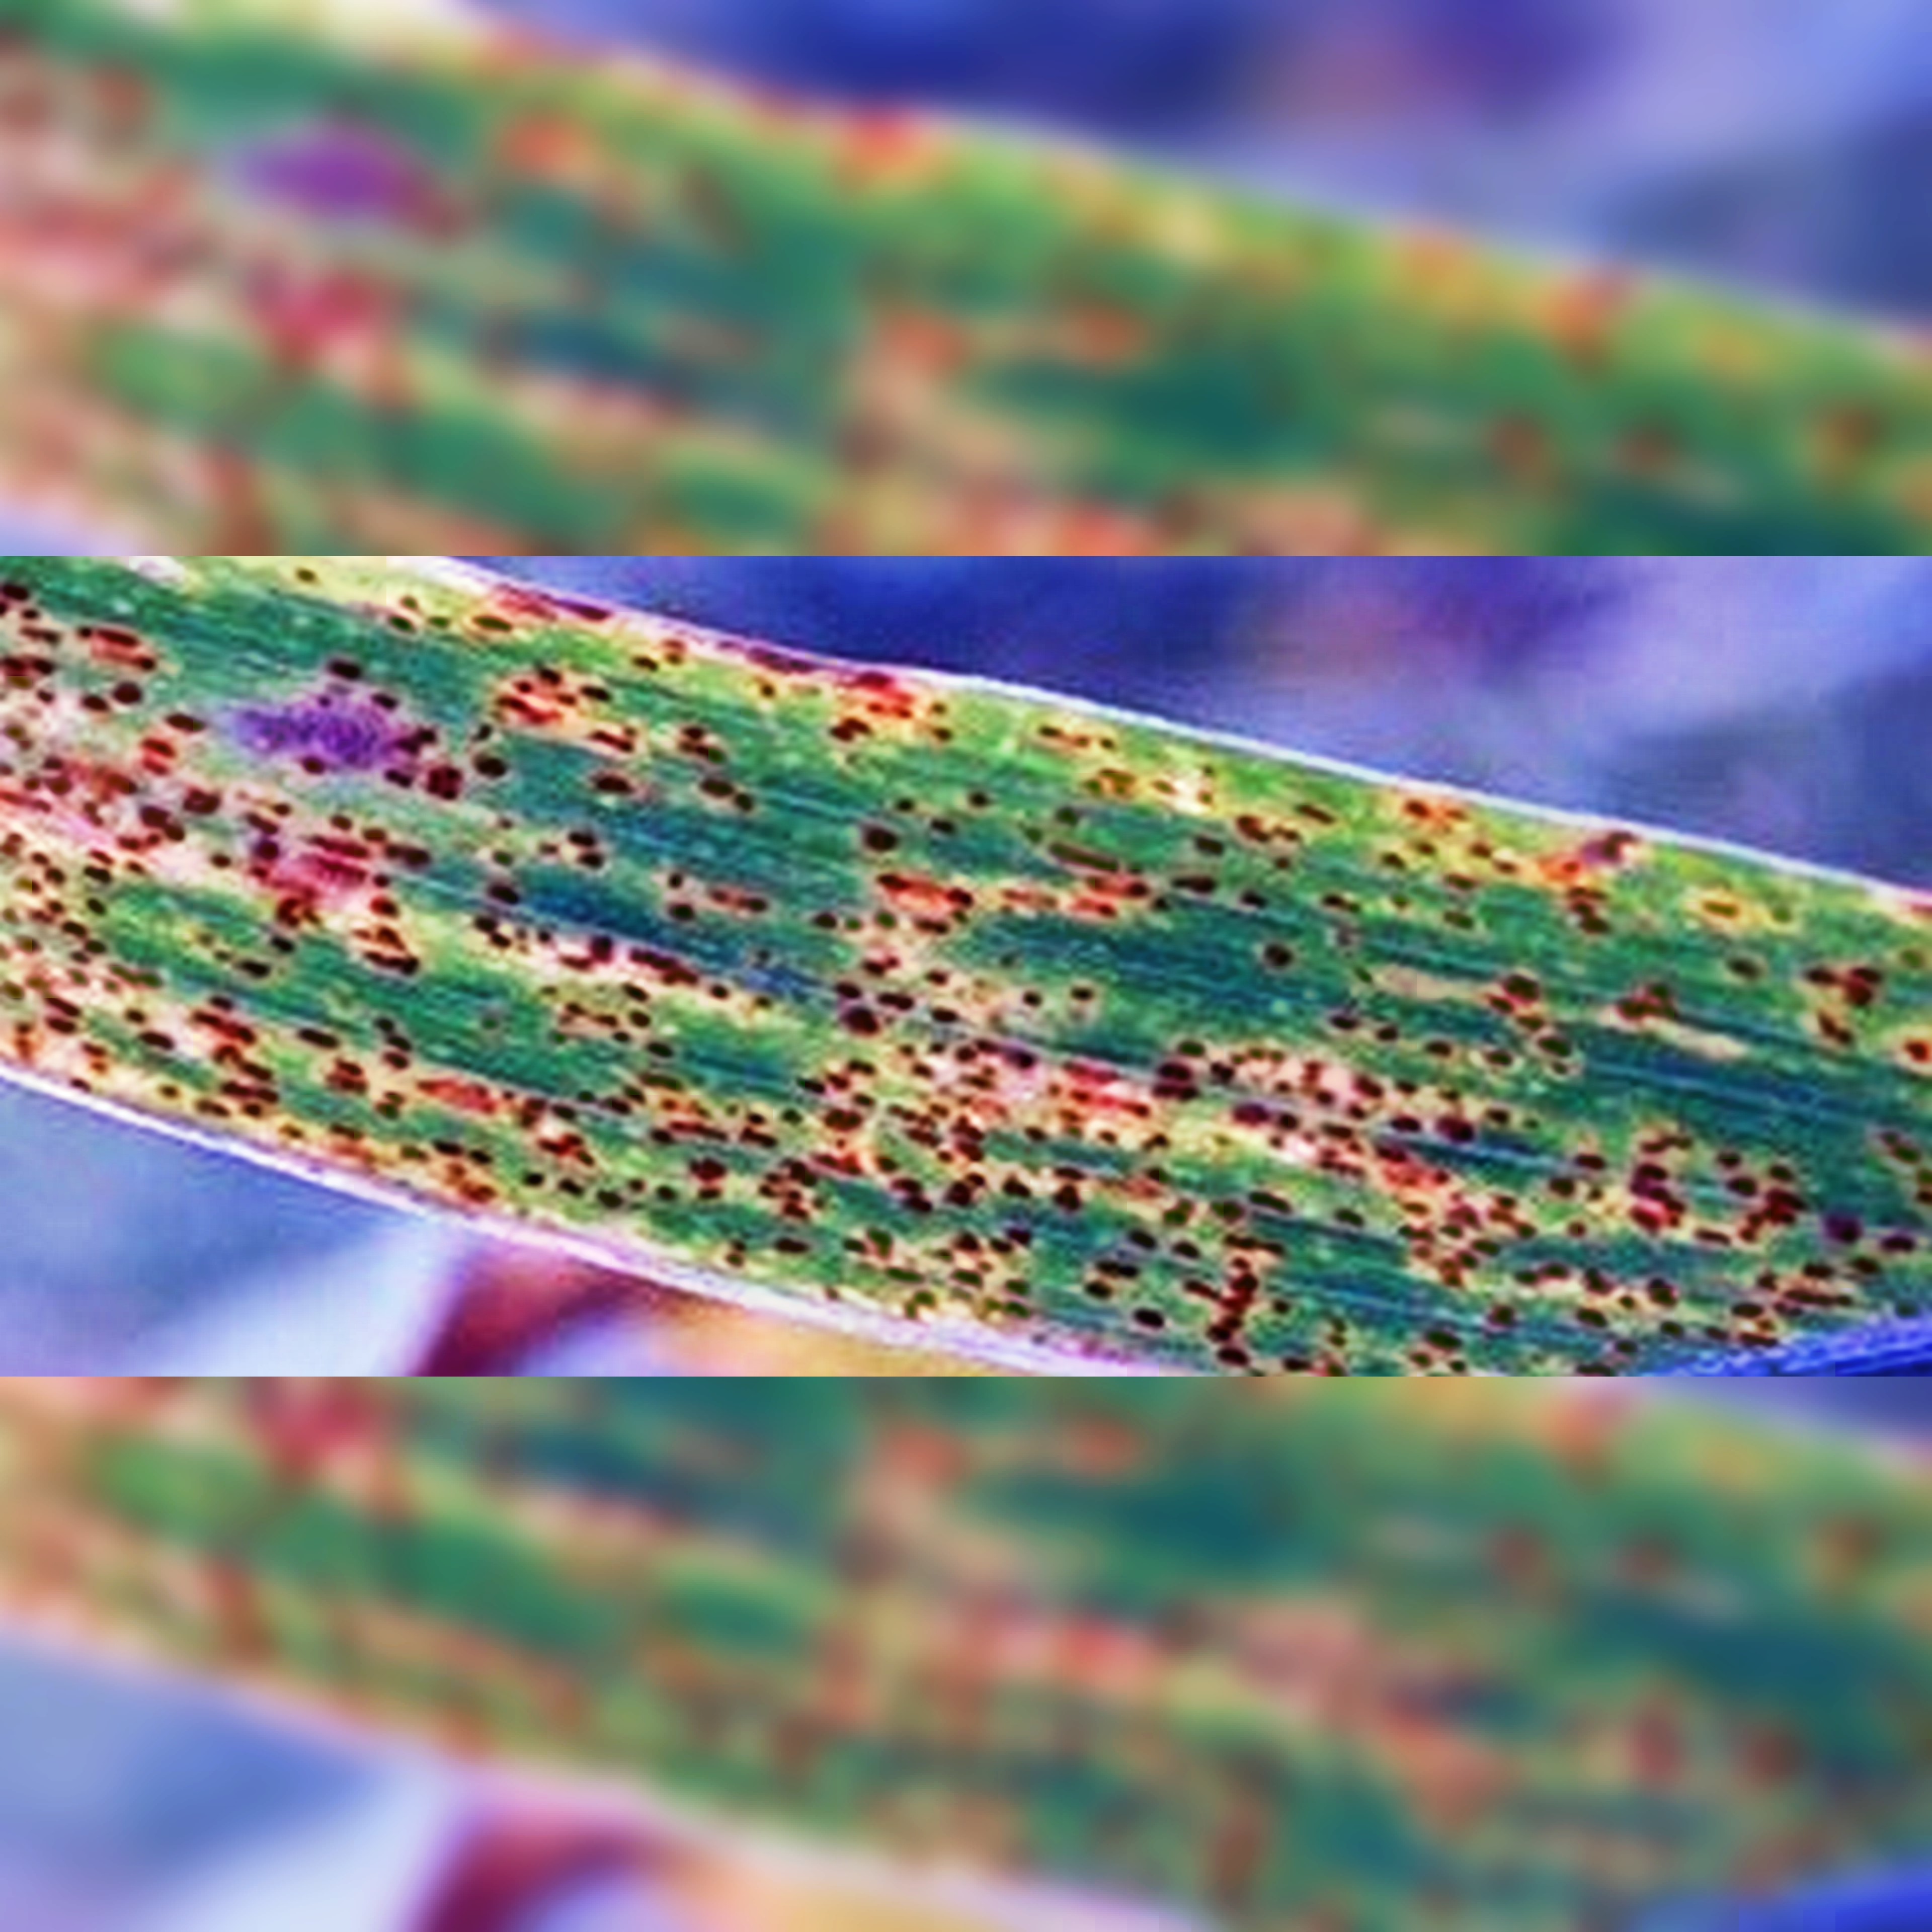Leaf Rust: (34, 603, 1693, 1375)
